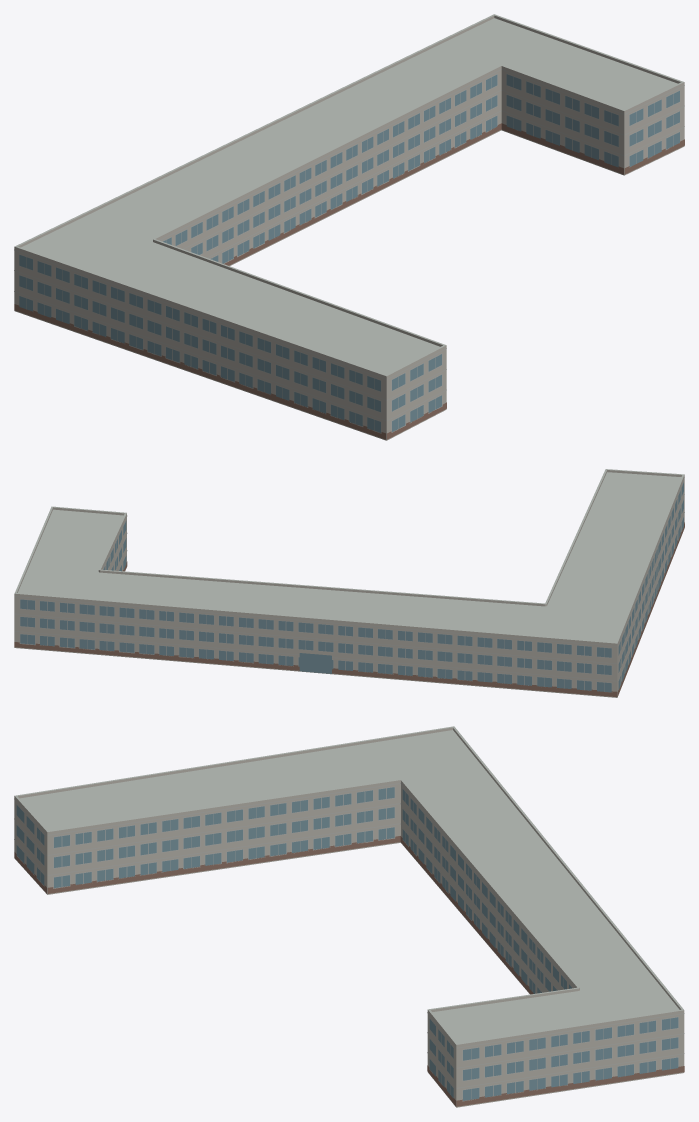
Rendered from public-8eab482b-3f8a-4a52-91d5-9e1275390751.glb.
The picture shows the model from 3 angles, top to bottom: view 1: azimuth 30°, elevation 25°; view 2: azimuth 150°, elevation 25°; view 3: azimuth 270°, elevation 25°; orthographic projection. The views are drawn at different scales.
Visible parts, largest first — view 1: public-8eab482b-3f8a-4a52-91d5-9e1275390751; view 2: public-8eab482b-3f8a-4a52-91d5-9e1275390751; view 3: public-8eab482b-3f8a-4a52-91d5-9e1275390751.
Part boxes in pixels (left/top/right/bottom): public-8eab482b-3f8a-4a52-91d5-9e1275390751: left=14, top=14, right=684, bottom=440; public-8eab482b-3f8a-4a52-91d5-9e1275390751: left=14, top=469, right=684, bottom=697; public-8eab482b-3f8a-4a52-91d5-9e1275390751: left=14, top=726, right=684, bottom=1107.
Size of the model in its own units: 99.79 by 9.15 by 88.66.
